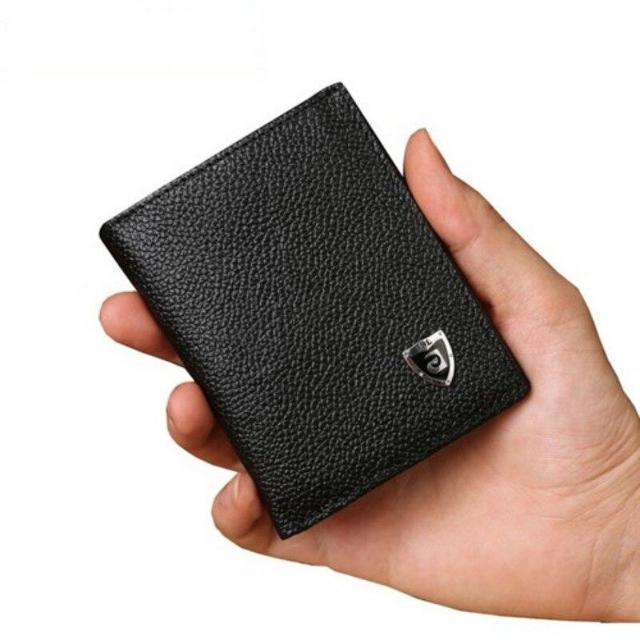wallet: (91, 74, 537, 548)
